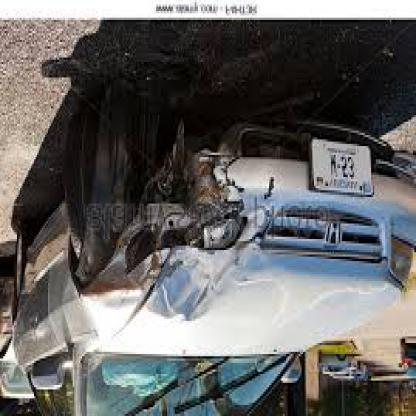dent: (146, 251, 216, 324), (81, 268, 126, 306)
